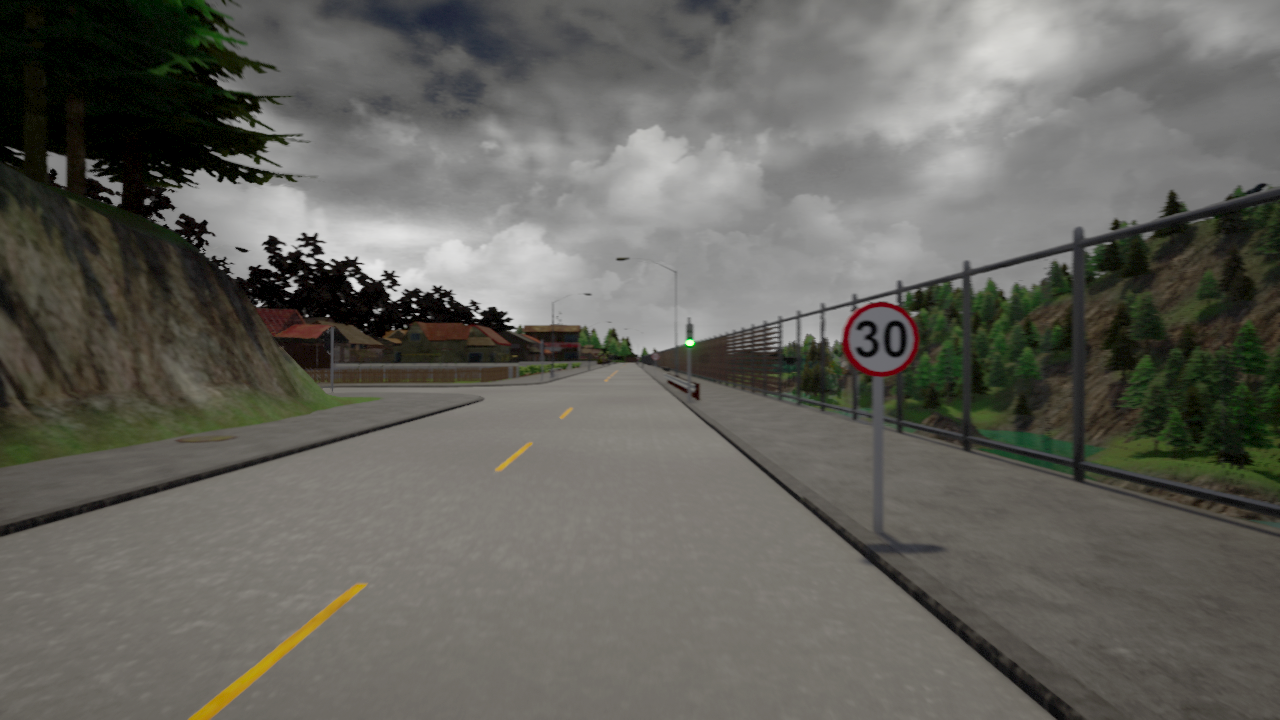green: (685, 323, 695, 348)
